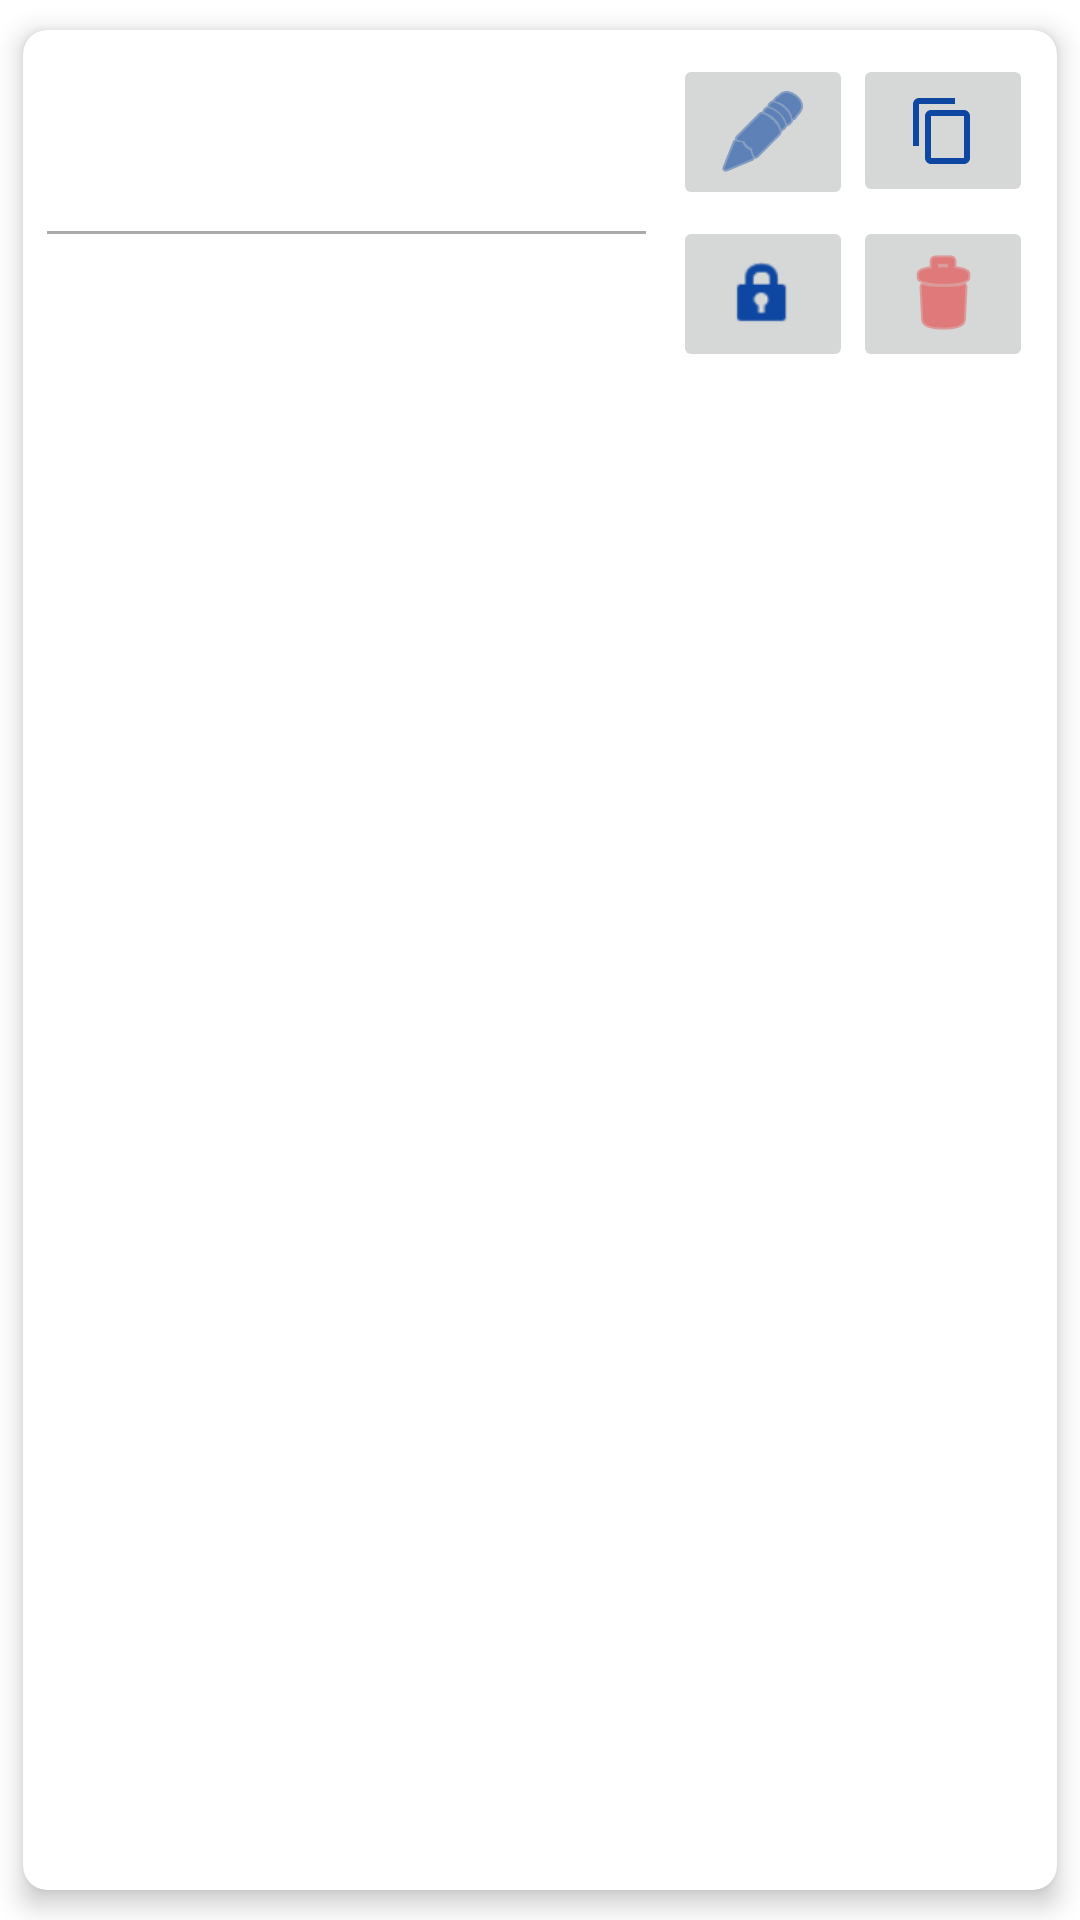

Screen size 1080×1920. Icon name, then its box in pixels as Rect(x1, y1, x2, y2):
Blocca/sblocca la password: Rect(685, 234, 841, 354)
Cancella: Rect(865, 234, 1021, 354)
Copia la password: Rect(865, 72, 1021, 189)
Modifica: Rect(685, 72, 841, 192)
